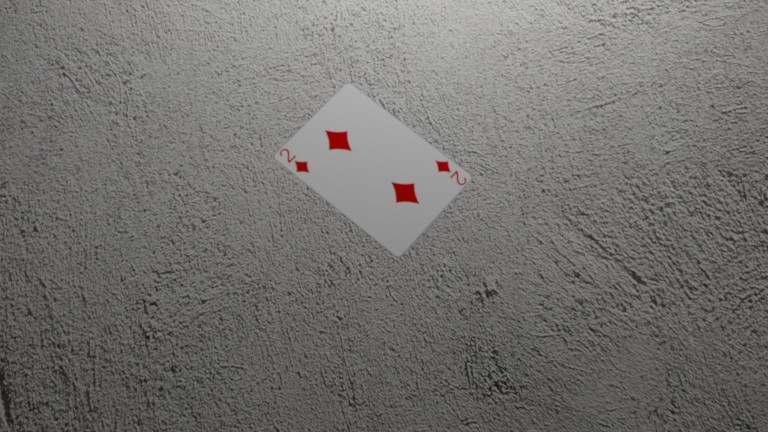2_of_diamonds: (110, 57, 127, 72), (171, 61, 188, 76)
